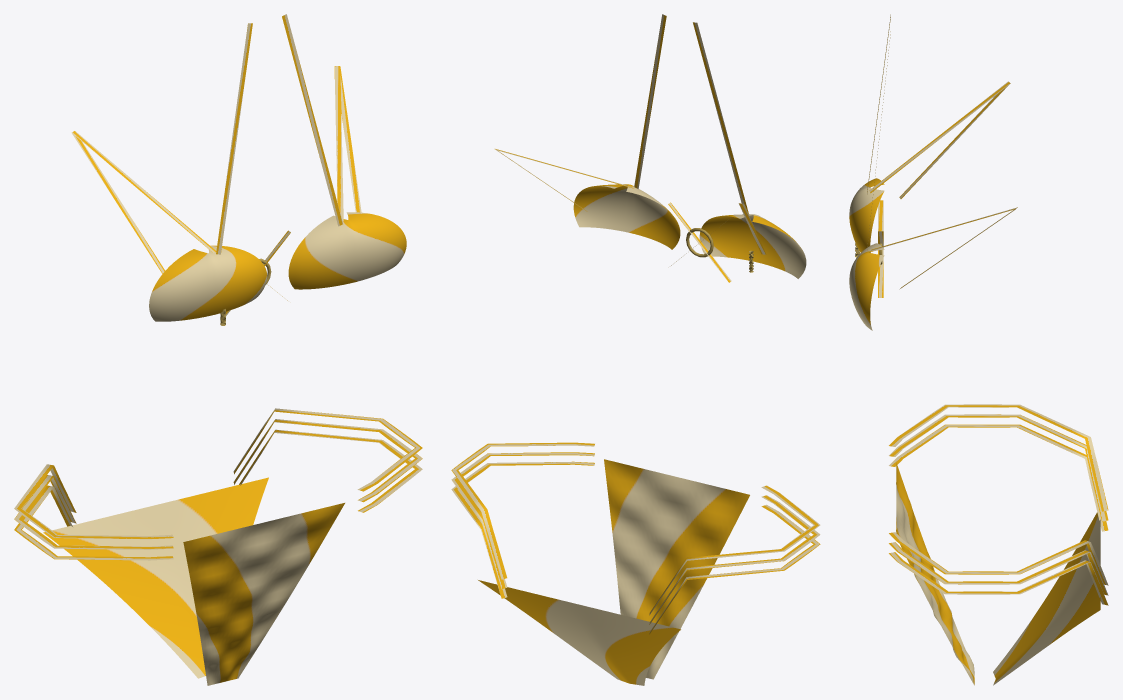
Rendered from bikini_81fa9c8d.obj.
3 renders of one model, left to right at view 1: azimuth 30°, elevation 25°; view 2: azimuth 150°, elevation 25°; view 3: azimuth 270°, elevation 25°, orthographic. The views are drawn at different scales.
Visible parts, largest first — view 1: bottom_back_classic, bottom_front_ruched, cup_right_cone, cup_left_cone, bottom_strap_left_2, bottom_strap_left_1, strap_right_web_a, bottom_strap_right_2, strap_left_web_a, bottom_strap_left_0, bottom_strap_right_1, bottom_strap_right_0 (+4 smaller); view 2: bottom_front_ruched, bottom_back_classic, cup_right_cone, cup_left_cone, bottom_strap_right_2, bottom_strap_right_1, bottom_strap_right_0, bottom_strap_left_2, bottom_strap_left_1, bottom_strap_left_0, strap_right_web_a, strap_left_web_a; view 3: bottom_back_classic, bottom_front_ruched, cup_right_cone, bottom_strap_left_2, cup_left_cone, bottom_strap_right_0, bottom_strap_left_0, bottom_strap_left_1, bottom_strap_right_1, bottom_strap_right_2, strap_left_web_c, connector_cross (+1 smaller).
Boxes of the visible parts, bbox=[...] form: bottom_back_classic: bbox=[43, 477, 268, 678]; bottom_front_ruched: bbox=[183, 503, 344, 685]; cup_right_cone: bbox=[288, 212, 406, 289]; cup_left_cone: bbox=[149, 245, 267, 321]; bottom_strap_left_2: bbox=[14, 464, 173, 539]; bottom_strap_left_1: bbox=[14, 475, 173, 549]; strap_right_web_a: bbox=[282, 14, 342, 226]; bottom_strap_right_2: bbox=[233, 408, 422, 491]; strap_left_web_a: bbox=[216, 23, 252, 254]; bottom_strap_left_0: bbox=[14, 485, 173, 560]; bottom_strap_right_1: bbox=[233, 419, 422, 502]; bottom_strap_right_0: bbox=[239, 429, 422, 512]; bottom_front_ruched: bbox=[604, 459, 749, 679]; bottom_back_classic: bbox=[478, 580, 680, 685]; cup_right_cone: bbox=[573, 184, 680, 249]; cup_left_cone: bbox=[699, 214, 806, 278]; bottom_strap_right_2: bbox=[451, 442, 594, 579]; bottom_strap_right_1: bbox=[451, 452, 594, 588]; bottom_strap_right_0: bbox=[451, 461, 594, 598]; bottom_strap_left_2: bbox=[649, 485, 820, 615]; bottom_strap_left_1: bbox=[649, 495, 820, 624]; bottom_strap_left_0: bbox=[649, 504, 820, 634]; strap_right_web_a: bbox=[634, 14, 666, 188]; strap_left_web_a: bbox=[693, 22, 748, 211]; bottom_back_classic: bbox=[993, 512, 1100, 685]; bottom_front_ruched: bbox=[896, 463, 974, 685]; cup_right_cone: bbox=[849, 243, 884, 330]; bottom_strap_left_2: bbox=[889, 404, 1108, 511]; cup_left_cone: bbox=[849, 178, 884, 252]; bottom_strap_right_0: bbox=[889, 552, 1108, 605]; bottom_strap_left_0: bbox=[889, 424, 1108, 531]; bottom_strap_left_1: bbox=[889, 414, 1108, 521]; bottom_strap_right_1: bbox=[889, 542, 1108, 595]; bottom_strap_right_2: bbox=[889, 532, 1108, 585]; strap_left_web_c: bbox=[869, 81, 1010, 193]; connector_cross: bbox=[878, 200, 883, 297].
Bounding box in the file's own units: 0.4374 × 0.7866 × 0.2817.
2 materials, 1 textured.
